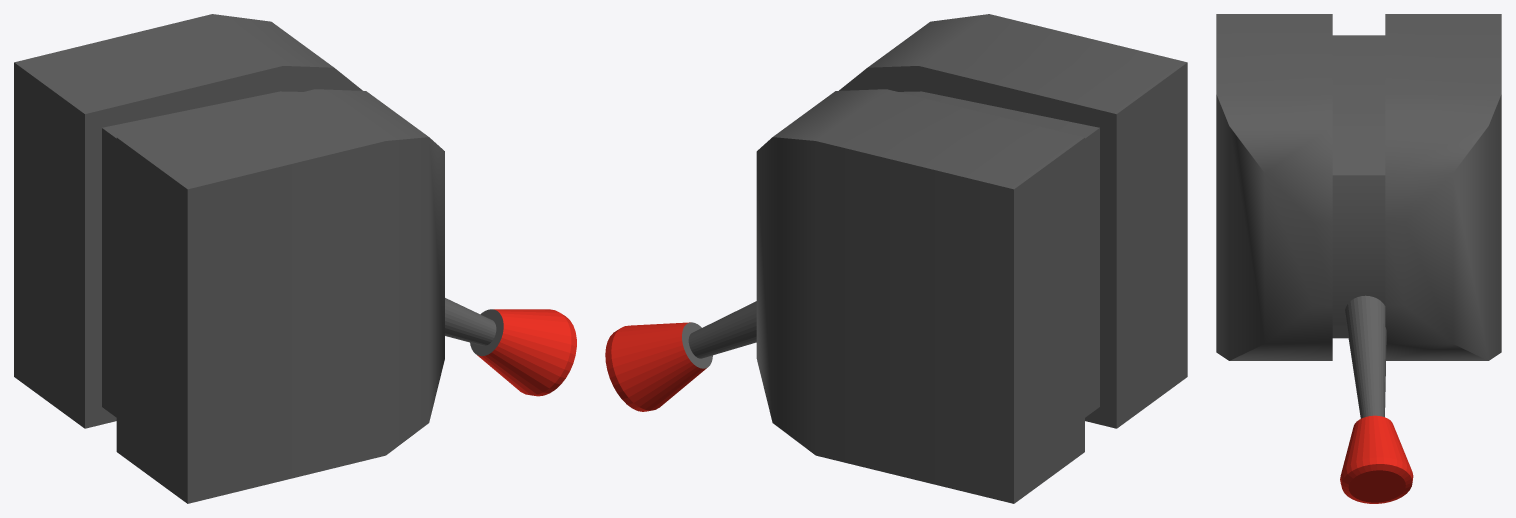
Rendered from palanca_abajo.fbx.
3 views of the same model, side by side, from view 1: azimuth 30°, elevation 25°; view 2: azimuth 150°, elevation 25°; view 3: azimuth 270°, elevation 25° (orthographic). The views are drawn at different scales.
Parts seen in each view (by area): view 1: Cube.001; view 2: Cube.001; view 3: Cube.001.
Boxes of the visible parts, box(x1,y1,x2,y2) form: Cube.001: box(14, 14, 576, 503); Cube.001: box(605, 14, 1187, 503); Cube.001: box(1216, 14, 1501, 503).
Bounding box in the file's own units: 317 × 243 × 200.
